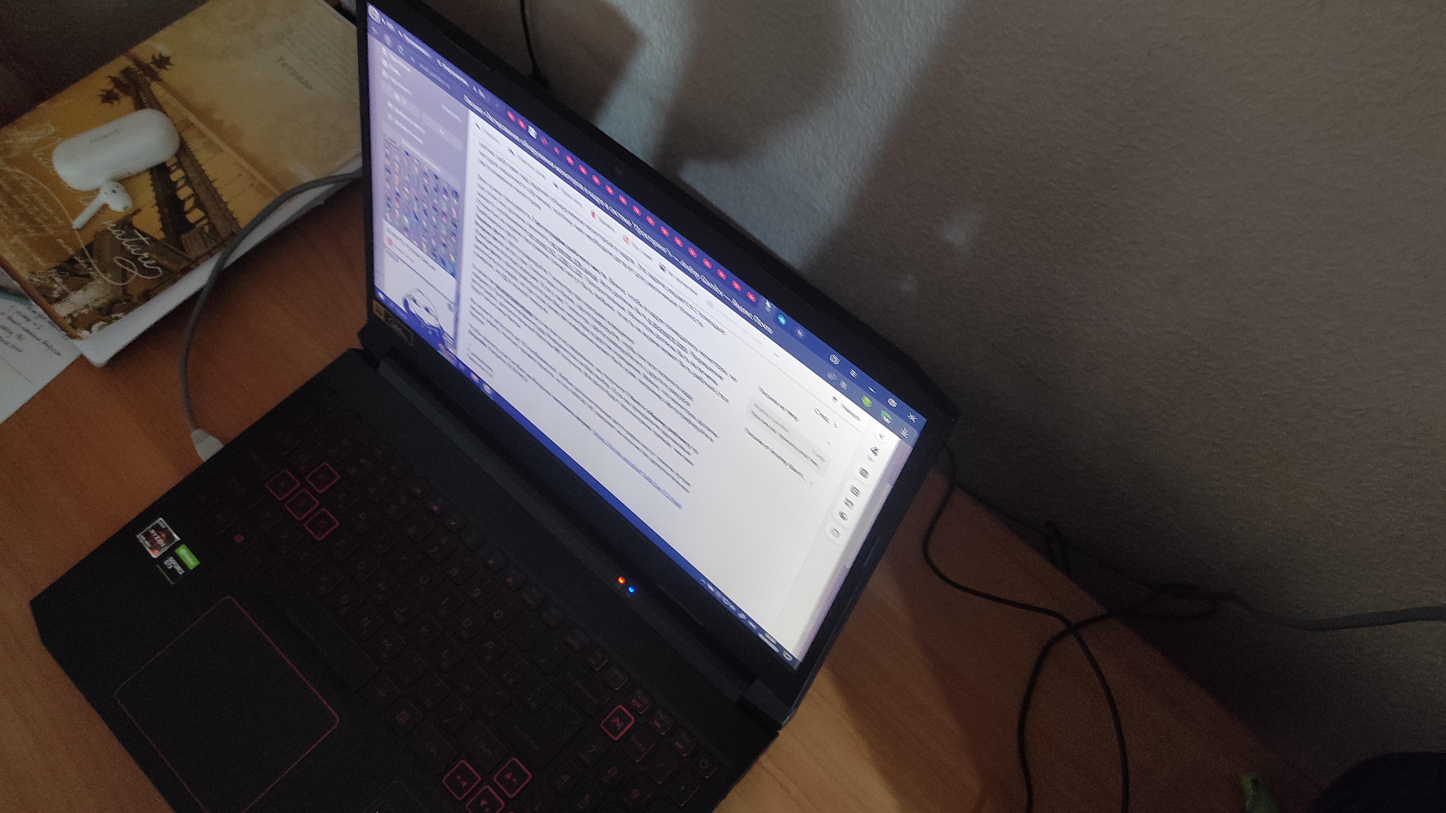monitor: (341, 0, 965, 735)
